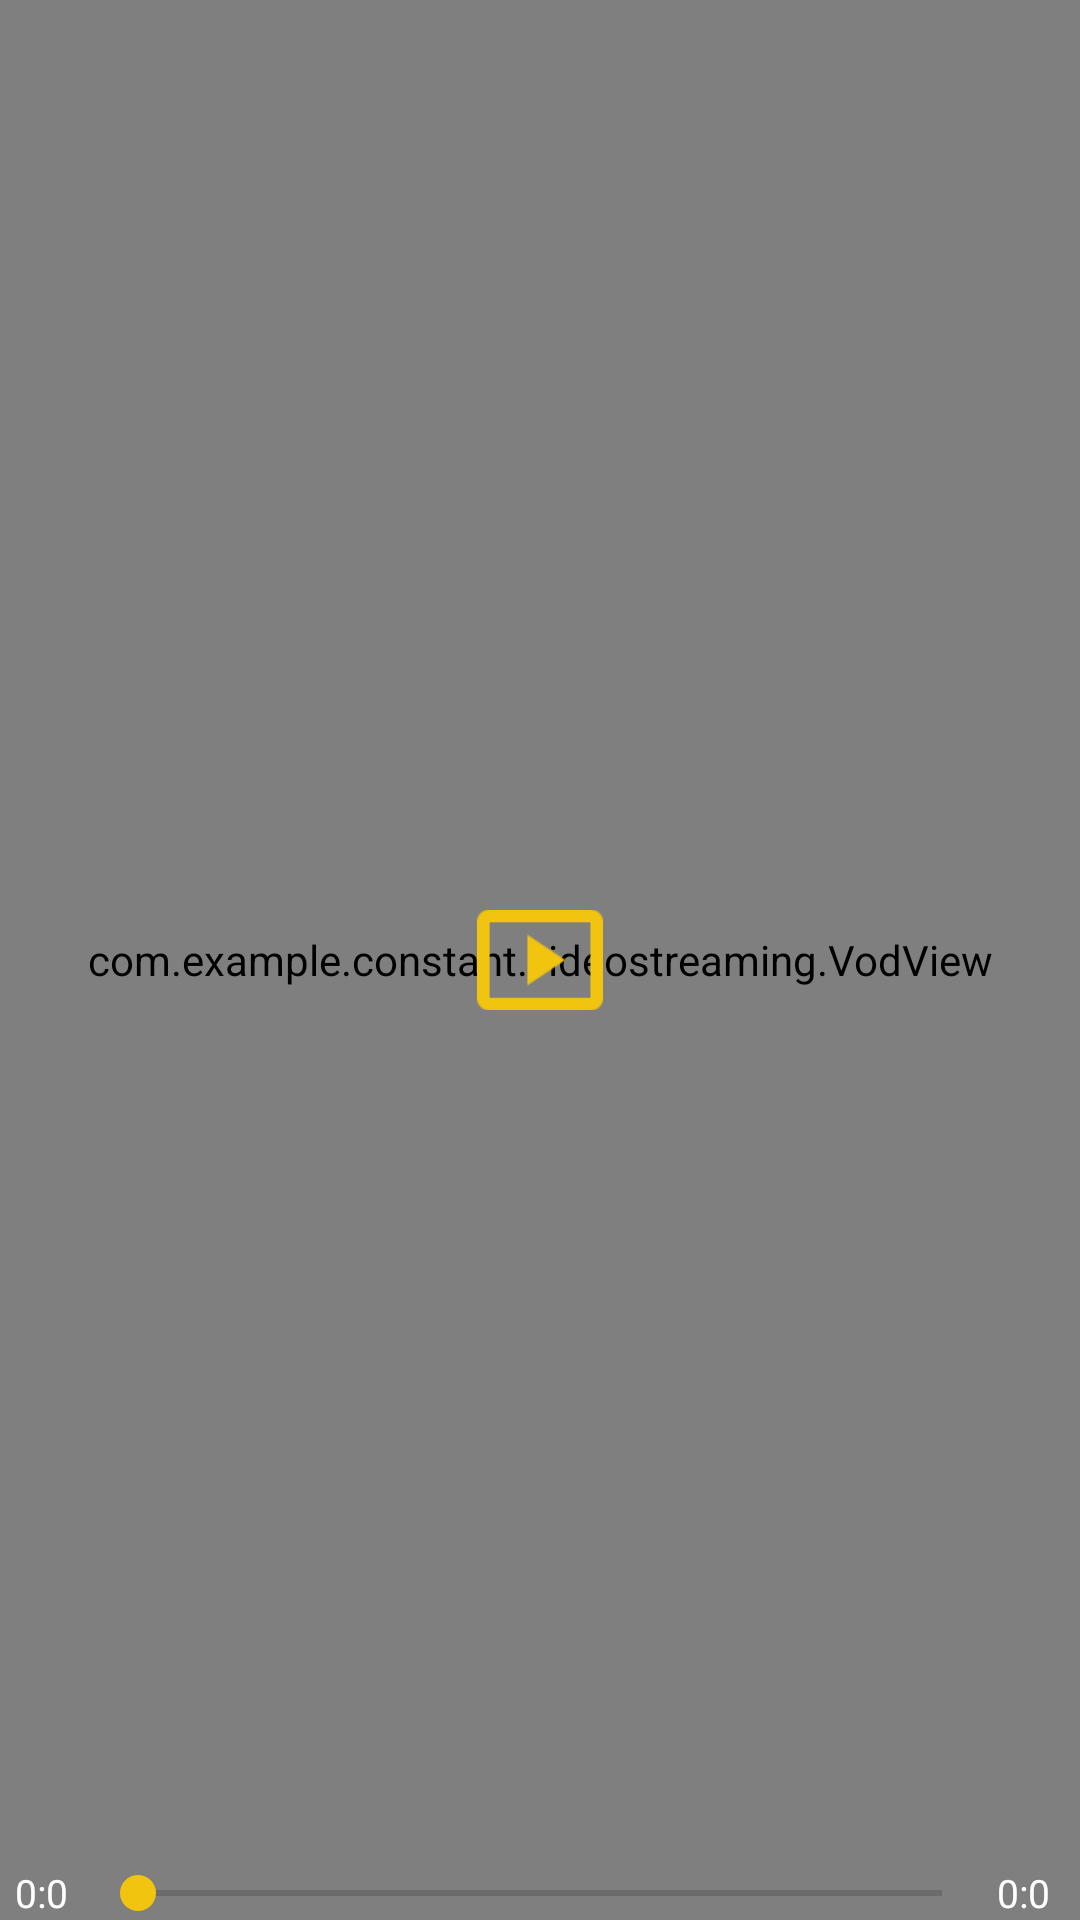

Icon bounding boxes for this 1080 x 1920 phone screenshot, format [left=x1, top=y1, right=x2, bottom=y2]:
play: [left=468, top=910, right=612, bottom=1010]
